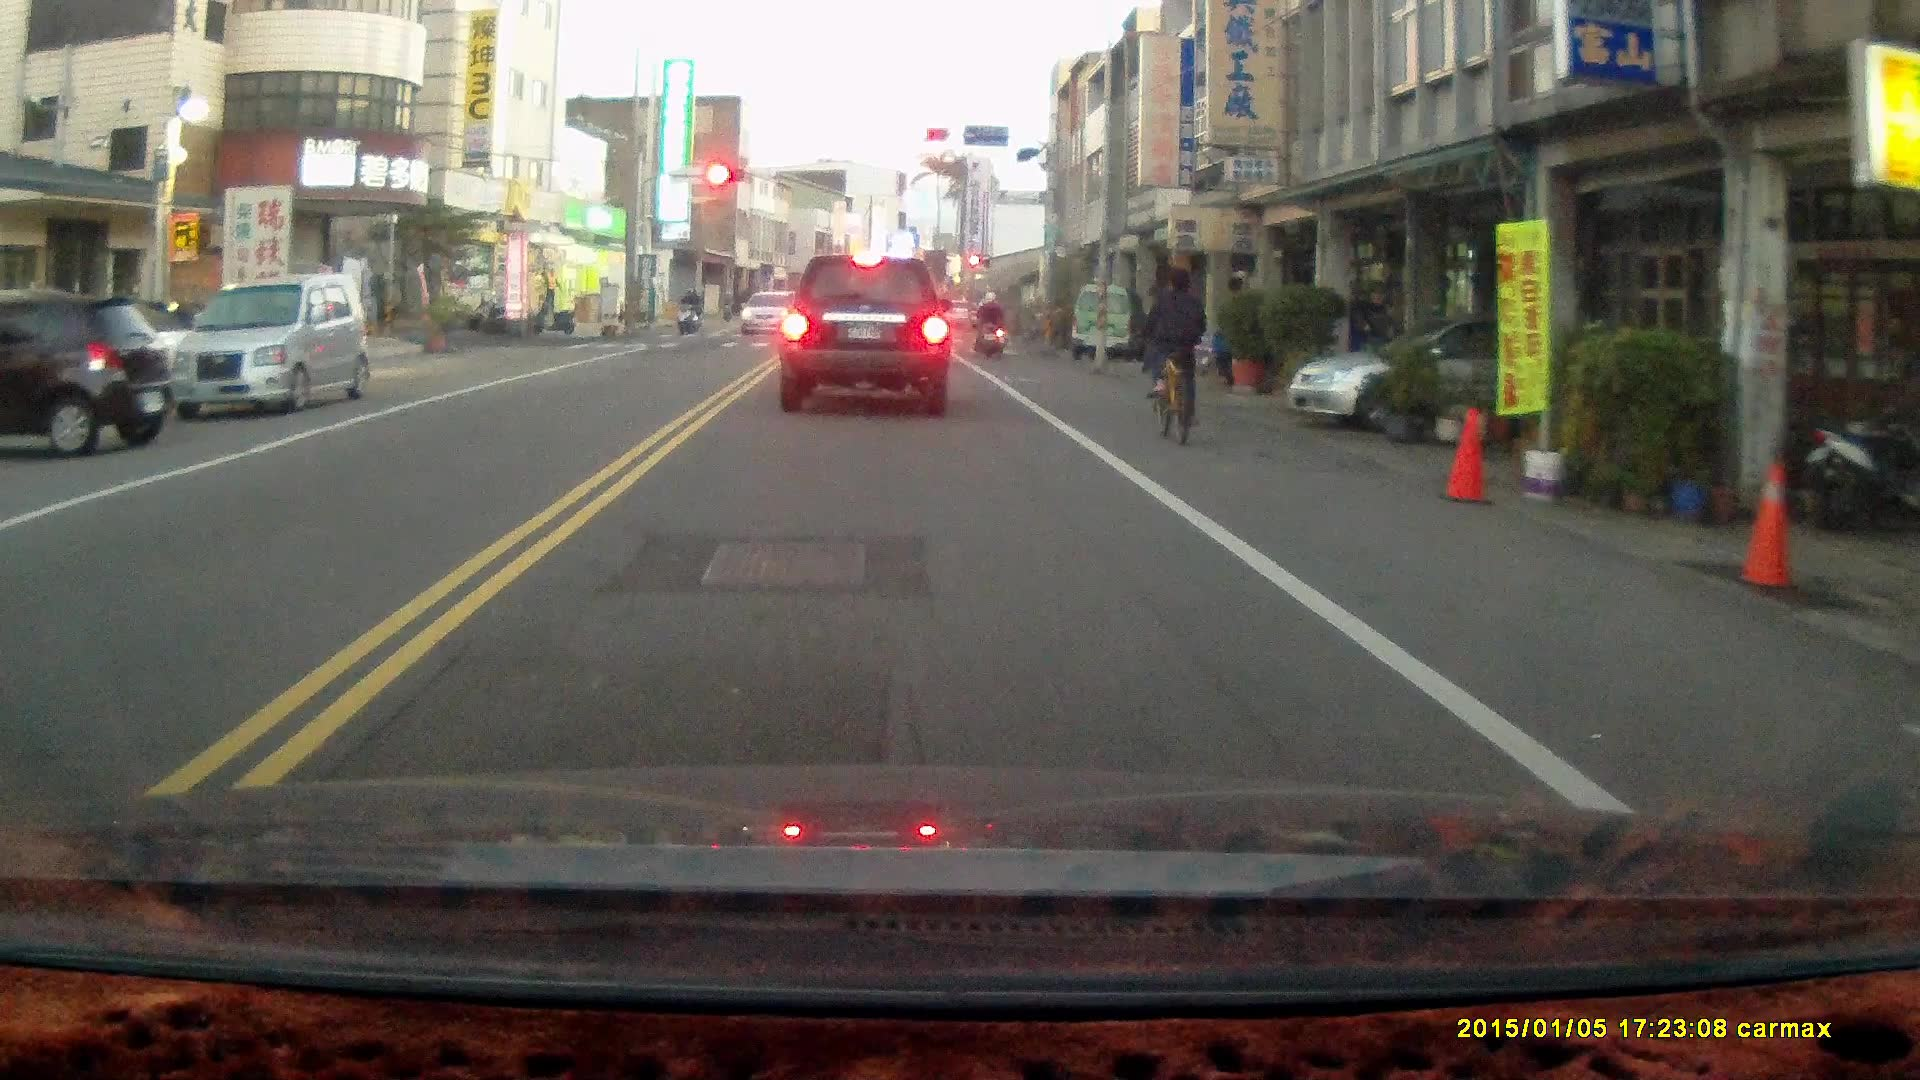pedestrian: (540, 267, 560, 314)
rider: (1140, 265, 1207, 445), (973, 285, 1009, 357), (674, 285, 700, 336)
vehicle: (1285, 314, 1631, 432), (169, 273, 372, 421), (776, 251, 954, 416), (1, 291, 180, 453), (1068, 287, 1141, 363)
